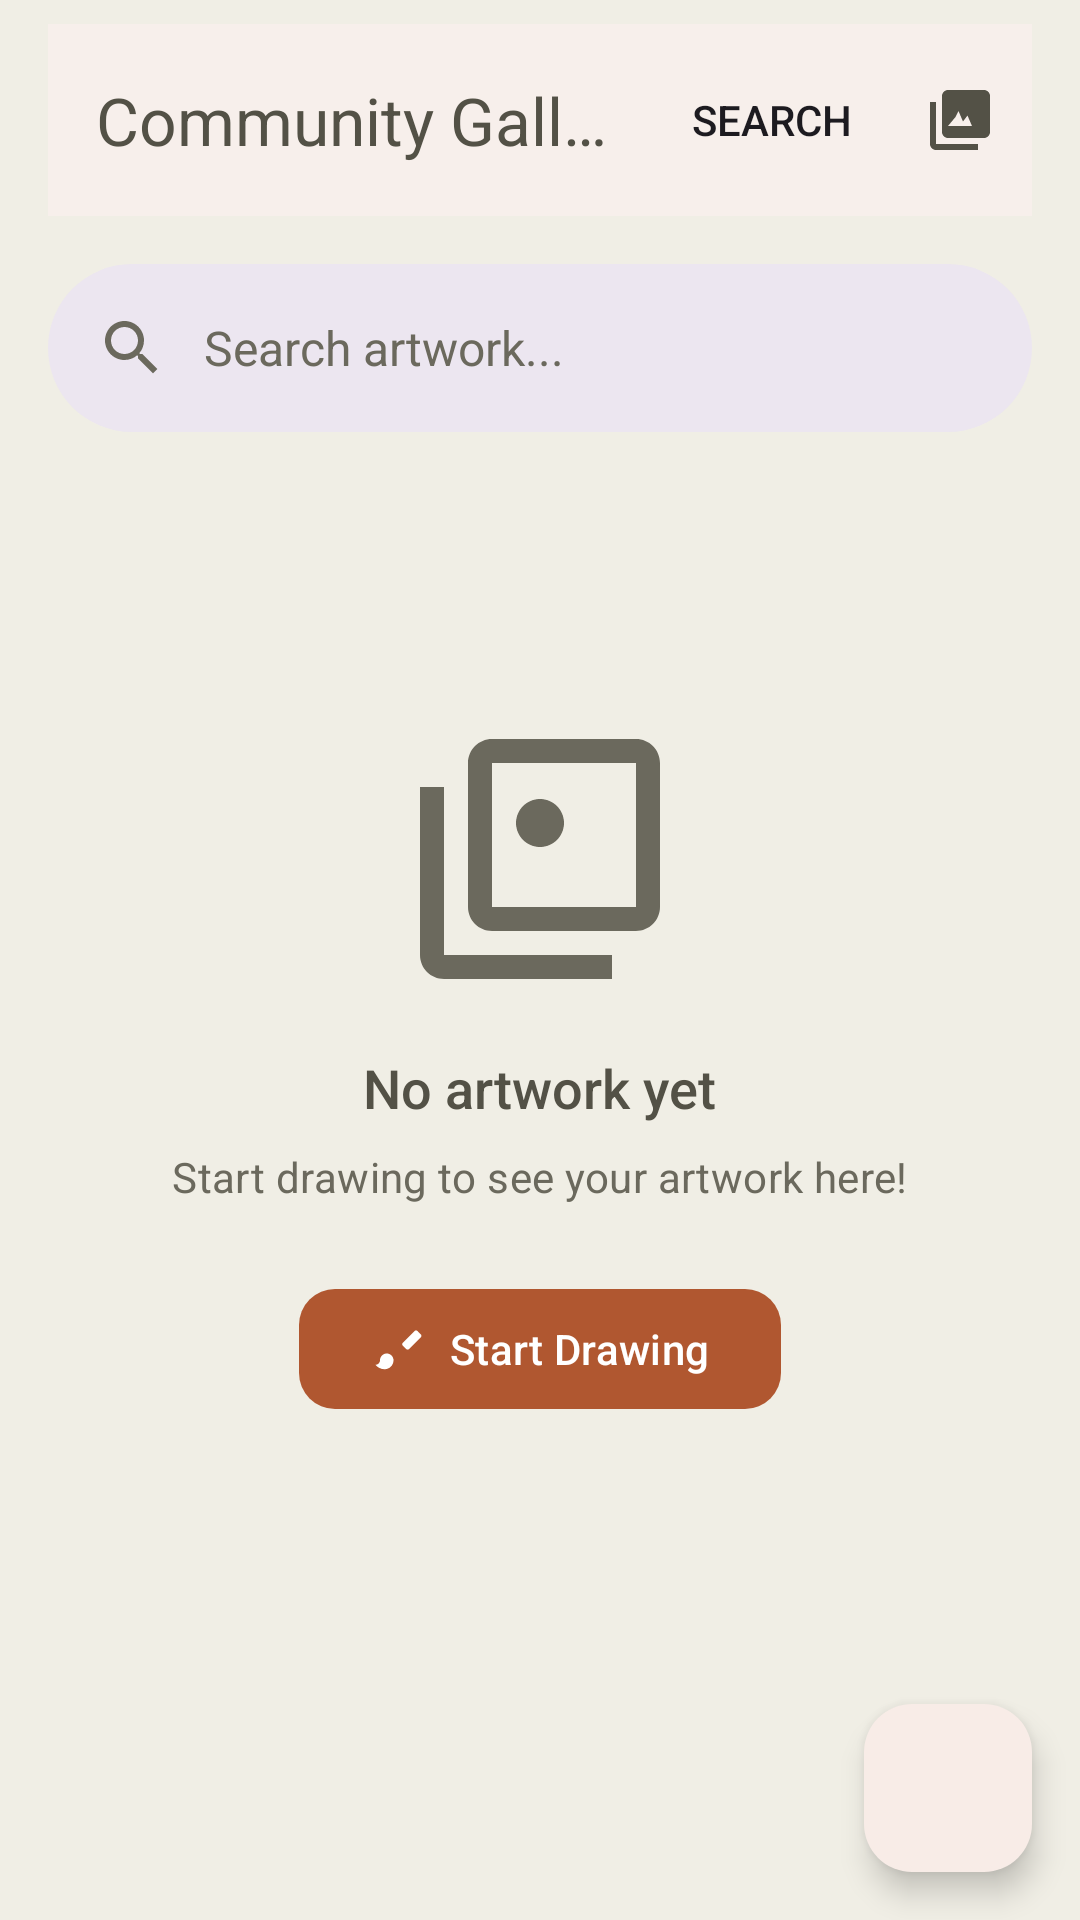

Where to tap for icons on this 1080 x 1920 app screen, as [x,y]:
empty gallery: [540,859]
